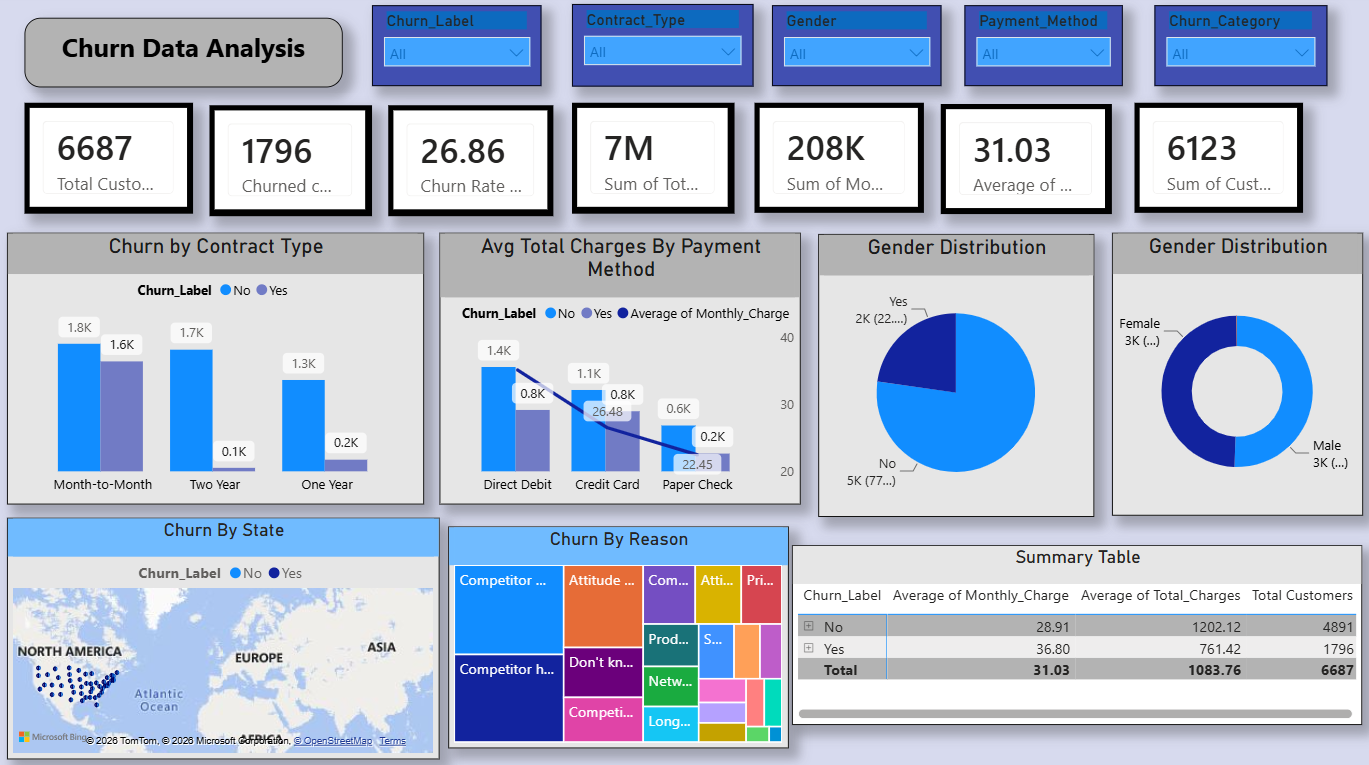

The page's visual inventory and layout, read from the dashboard file:
{"tool":"powerbi","page":{"name":"Dashboard","canvas":[1280,720],"ordinal":6},"visuals":[{"type":"textbox","box":[25.7,22,295.9,64.8],"z":0},{"type":"slicer","fields":{"Values":["Databel - Data.Churn_Label"]},"box":[348.5,11,157.8,75.5],"z":1000},{"type":"slicer","fields":{"Values":["Databel - Data.Contract_Type"]},"box":[535.2,9.6,168.8,76.8],"z":2000},{"type":"slicer","fields":{"Values":["Databel - Data.Gender"]},"box":[720.4,11,157.8,75.5],"z":3000},{"type":"slicer","fields":{"Values":["Databel - Data.Churn_Category"]},"box":[1077.2,11,160.5,75.5],"z":4000},{"type":"slicer","fields":{"Values":["Databel - Data.Payment_Method"]},"box":[900.2,11,146.8,75.5],"z":5000},{"type":"cardVisual","fields":{"Data":["Databel - Data.Total Customers"]},"box":[26.1,101.5,156.4,102.9],"z":6000},{"type":"cardVisual","fields":{"Data":["Databel - Data.Churned customers"]},"box":[197.6,102.9,150.9,102.9],"z":7000},{"type":"cardVisual","fields":{"Data":["Databel - Data.Churn Rate %"]},"box":[363.6,102.9,153.7,102.9],"z":8000},{"type":"cardVisual","fields":{"Data":["Sum(Databel - Data.Total_Charges)"]},"box":[535.2,101.5,150.9,102.9],"z":9000},{"type":"cardVisual","fields":{"Data":["Sum(Databel - Data.Monthly_Charge)"]},"box":[704.4,101.5,157.7,102.7],"z":10000},{"type":"cardVisual","fields":{"Data":["Avg(Databel - Data.Monthly_Charge)"]},"box":[878,102.7,159,102.7],"z":11000},{"type":"cardVisual","fields":{"Data":["Sum(Databel - Data.Customer_Service_Calls)"]},"box":[1057.8,101.5,156.5,102.7],"z":12000},{"type":"lineClusteredColumnComboChart","title":"Churn by Contract Type","fields":{"Category":["Databel - Data.Contract_Type"],"Y":["Databel - Data.Total Customers"],"Series":["Databel - Data.Churn_Label"]},"box":[9.8,222.6,387.6,253.1],"z":13000},{"type":"lineClusteredColumnComboChart","title":"Avg Total Charges By Payment Method","fields":{"Category":["Databel - Data.Payment_Method"],"Y":["Avg(Databel - Data.Total_Charges)"],"Y2":["Avg(Databel - Data.Monthly_Charge)"],"Series":["Databel - Data.Churn_Label"]},"box":[412.1,222.6,336.3,253.1],"z":14000},{"type":"pieChart","title":"Gender Distribution","fields":{"Category":["Databel - Data.Group"],"Y":["Databel - Data.Total Customers"]},"box":[764.3,223.8,256.8,262.9],"z":15000},{"type":"donutChart","title":"Gender Distribution","fields":{"Category":["Databel - Data.Gender","Databel - Data.Group"],"Y":["Databel - Data.Total Customers"]},"box":[1037,222.6,233.6,262.9],"z":16000},{"type":"map","title":"Churn By State","fields":{"Category":["Databel - Data.State"],"Series":["Databel - Data.Churn_Label"]},"box":[9.8,486.7,402.3,225],"z":17000},{"type":"treemap","title":"Churn By Reason","fields":{"Group":["Databel - Data.Churn_Reason"],"Values":["Databel - Data.Churned customers"]},"box":[419.4,495.2,316.7,206.7],"z":18000},{"type":"pivotTable","title":"Summary Table","fields":{"Rows":["Databel - Data.Churn_Label","Databel - Data.Gender","Databel - Data.Contract_Type"],"Values":["Avg(Databel - Data.Monthly_Charge)","Avg(Databel - Data.Total_Charges)","Databel - Data.Total Customers"]},"box":[739.8,512.4,530.7,167.5],"z":19000}]}

Visuals, with their boxes in screenshot pixels (x1, y1, x2, y2), scaled from the page's 1280x720 canvas onto the 1369x765 screenshot:
textbox: rect(27, 23, 344, 92)
slicer - Databel - Data.Churn_Label: rect(373, 12, 542, 92)
slicer - Databel - Data.Contract_Type: rect(572, 10, 753, 92)
slicer - Databel - Data.Gender: rect(770, 12, 939, 92)
slicer - Databel - Data.Churn_Category: rect(1152, 12, 1324, 92)
slicer - Databel - Data.Payment_Method: rect(963, 12, 1120, 92)
cardVisual - Databel - Data.Total Customers: rect(28, 108, 195, 217)
cardVisual - Databel - Data.Churned customers: rect(211, 109, 373, 219)
cardVisual - Databel - Data.Churn Rate %: rect(389, 109, 553, 219)
cardVisual - Sum(Databel - Data.Total_Charges): rect(572, 108, 734, 217)
cardVisual - Sum(Databel - Data.Monthly_Charge): rect(753, 108, 922, 217)
cardVisual - Avg(Databel - Data.Monthly_Charge): rect(939, 109, 1109, 218)
cardVisual - Sum(Databel - Data.Customer_Service_Calls): rect(1131, 108, 1299, 217)
"Churn by Contract Type" lineClusteredColumnComboChart: rect(10, 237, 425, 505)
"Avg Total Charges By Payment Method" lineClusteredColumnComboChart: rect(441, 237, 800, 505)
"Gender Distribution" pieChart: rect(817, 238, 1092, 517)
"Gender Distribution" donutChart: rect(1109, 237, 1359, 516)
"Churn By State" map: rect(10, 517, 441, 756)
"Churn By Reason" treemap: rect(449, 526, 787, 746)
"Summary Table" pivotTable: rect(791, 544, 1359, 722)
